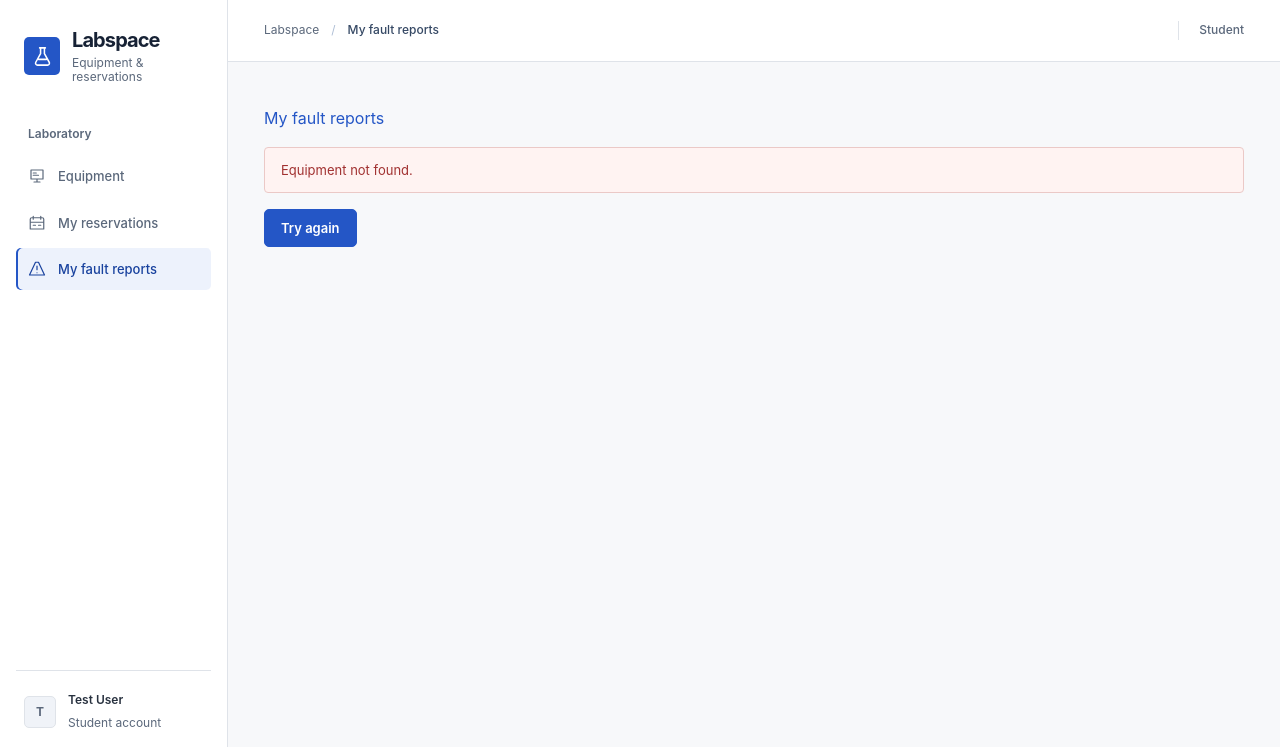
Test: archived or missing equipment prevents reporting and offers a safe retry
The image size is (1280, 747).
Expected: the message reads "Equipment not found.", [281,162,413,178]
Expected: the button "Submit report" is not shown
Click the button "Try again".
click(310, 228)  # box [264,209,357,247]
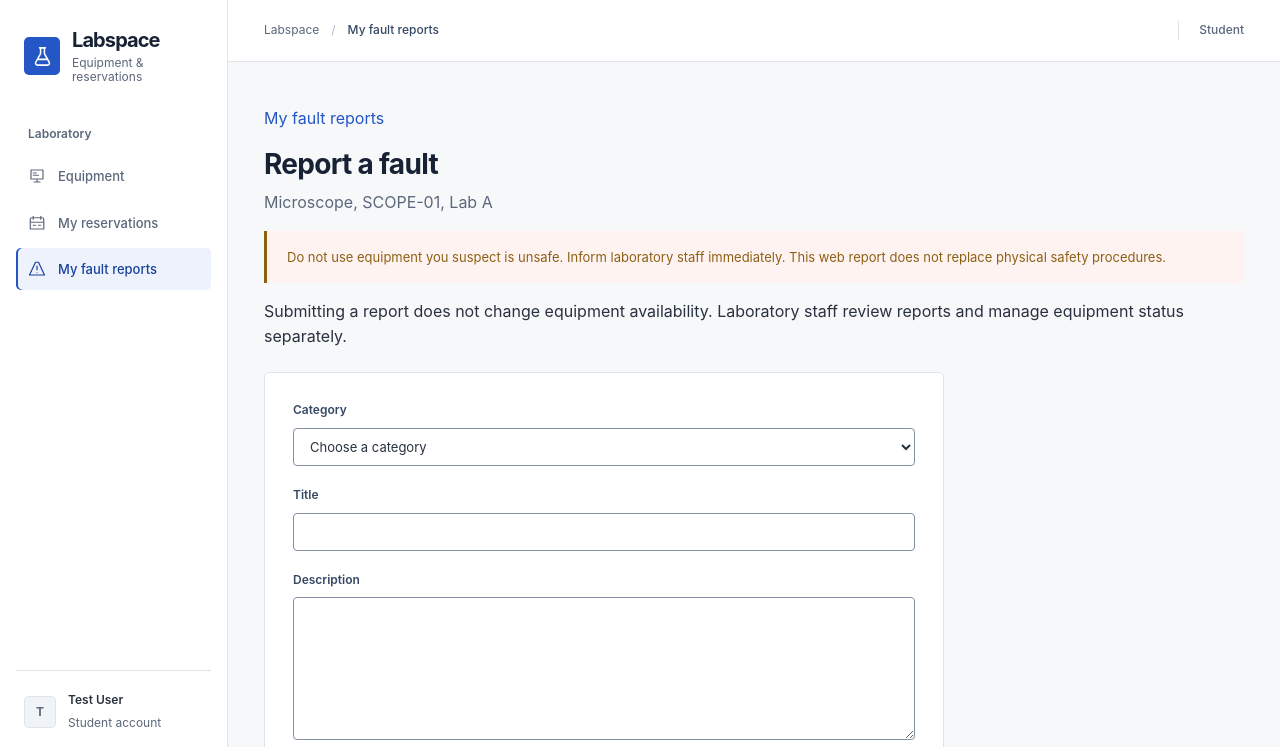
Expected: the field labelled "Title" is shown, [293,512,915,551]
